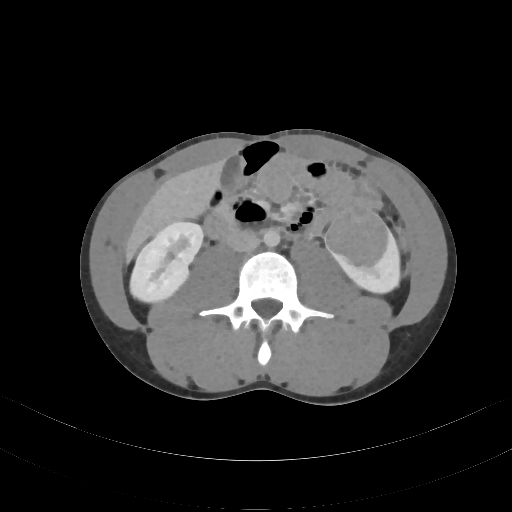Lesion: (324, 201, 390, 268)
